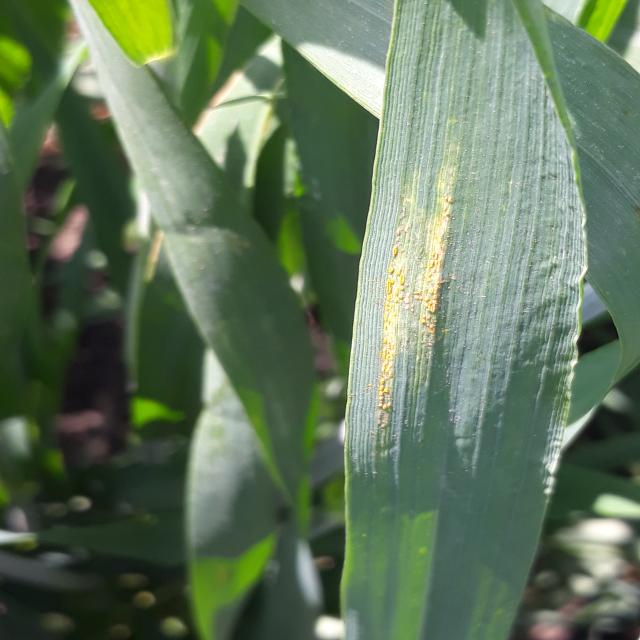yellow_rust: (341, 94, 602, 534)
